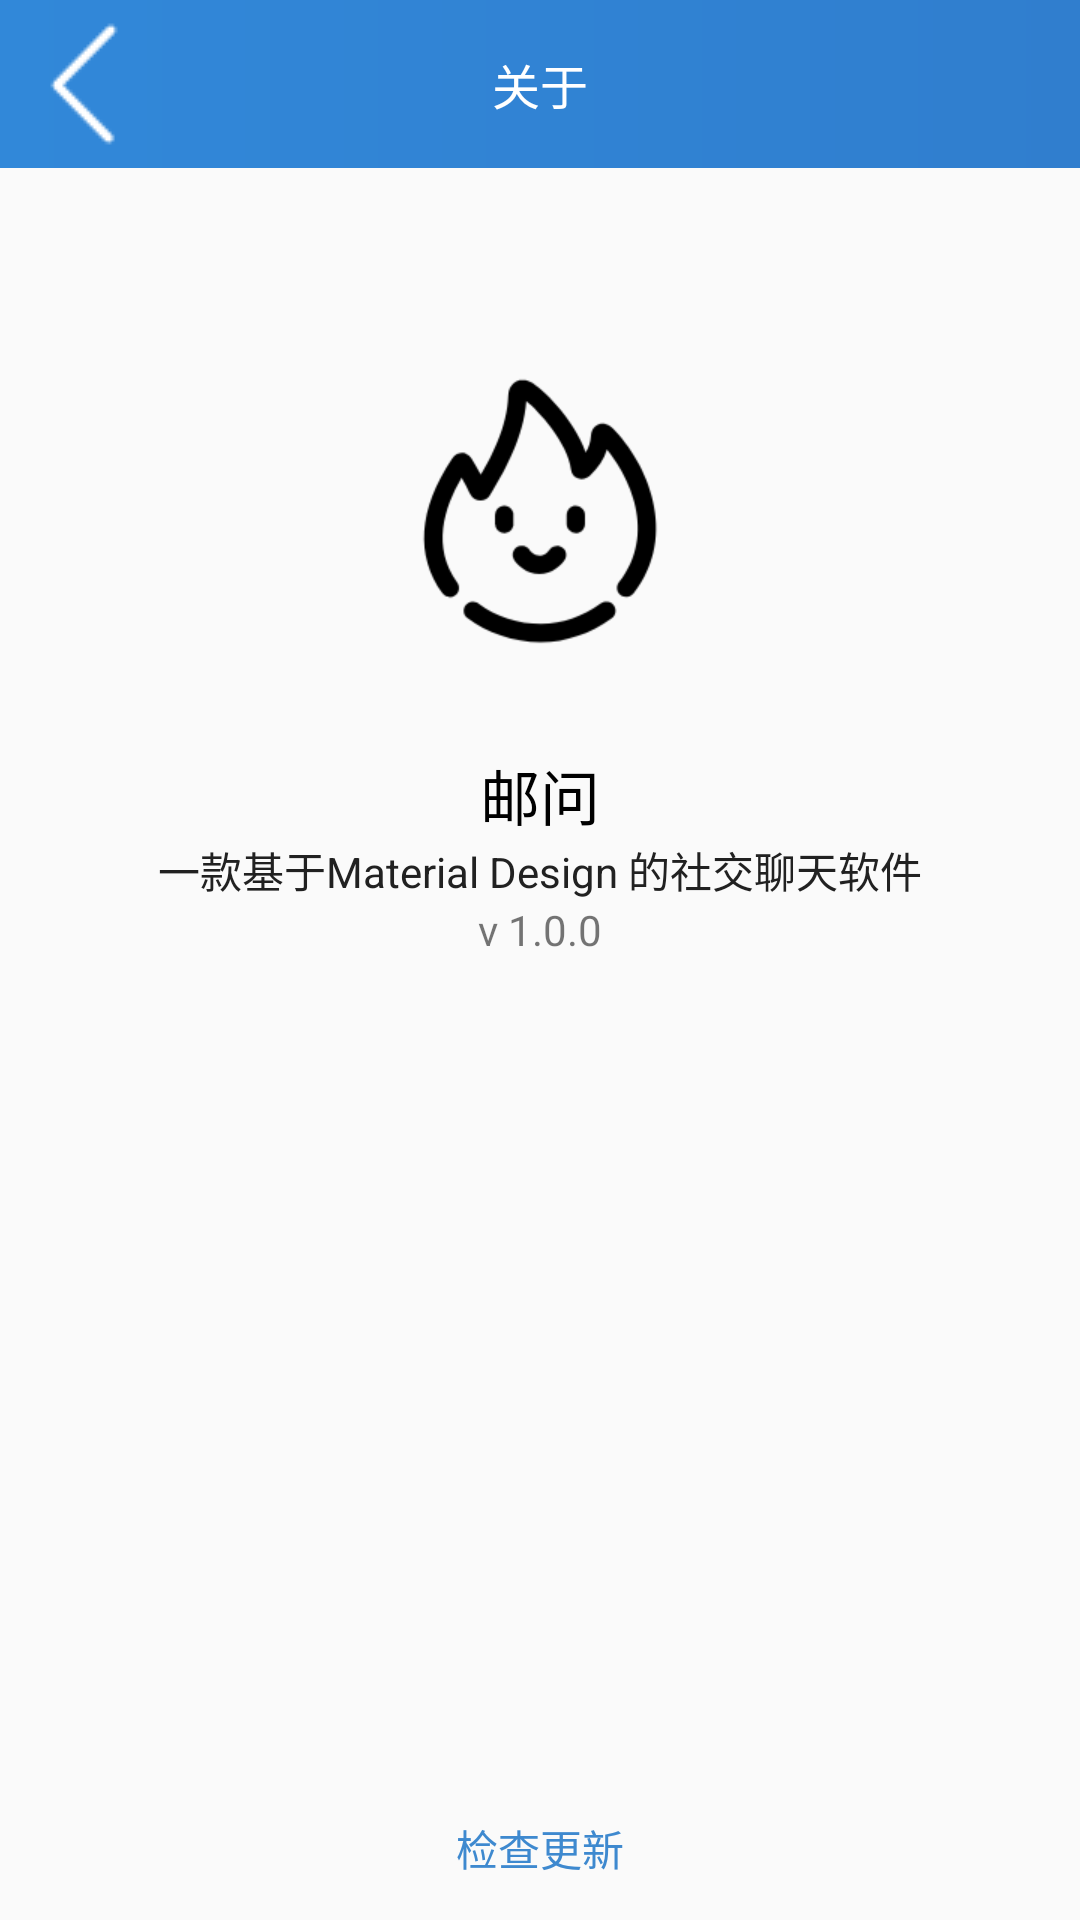

Icons on this 1080×1920 Android screen, each with its box as (x1, y1, x2, y2):
summer like: (423, 379, 657, 643)
